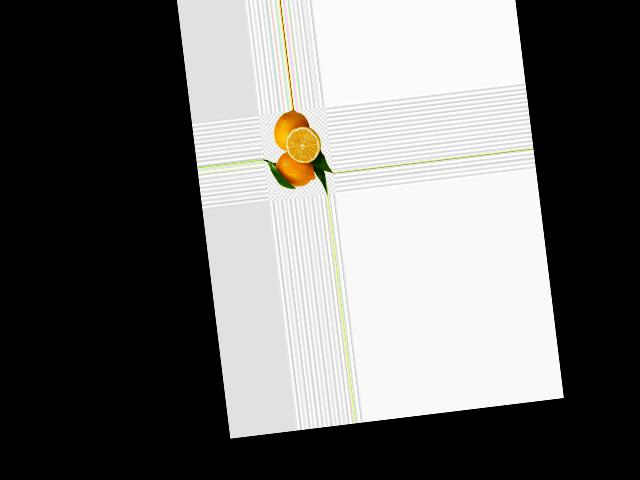lemon: (272, 108, 314, 150)
